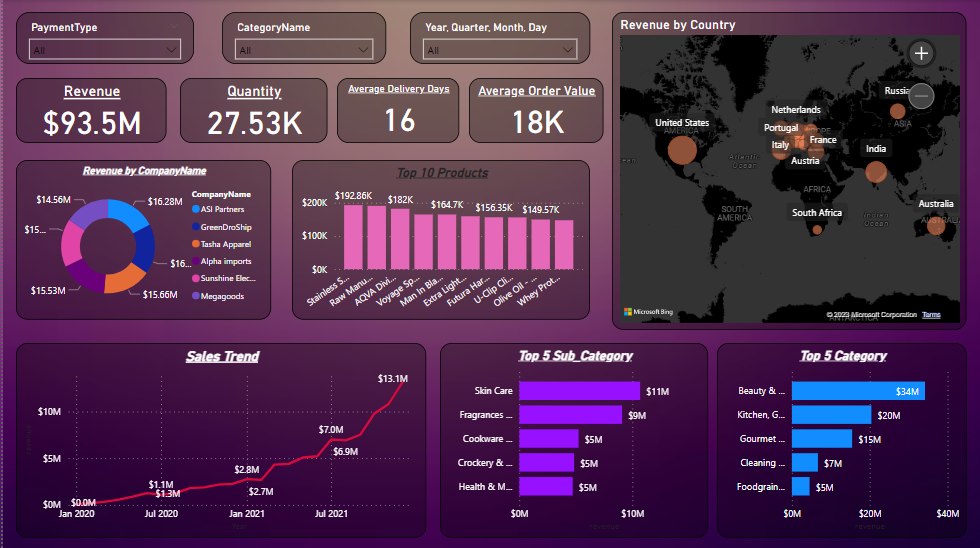

This screenshot's page, from the dashboard's own definition file:
{"tool":"powerbi","page":{"name":"Page 1","canvas":[1280,720],"ordinal":0},"visuals":[{"type":"card","title":"Revenue","fields":{"Values":["Orders.revenue"]},"box":[17.3,102.2,197.3,85],"z":0},{"type":"card","title":"Quantity","fields":{"Values":["OrderDetails.Quantity"]},"box":[231.8,102.2,193,85],"z":1000},{"type":"card","title":"Average Delivery Days","fields":{"Values":["Orders.Delivery Days"]},"box":[437.8,102.2,159.8,85],"z":2000},{"type":"card","title":"Average Order Value","fields":{"Values":["Orders.Total_order_amount"]},"box":[610.6,102.2,175.7,85],"z":3000},{"type":"map","title":"Revenue by Country","fields":{"Category":["Customers.Country"],"Size":["Orders.revenue"]},"box":[797.8,15.8,463.7,416.2],"z":4000},{"type":"slicer","fields":{"Values":["Payments.PaymentType"]},"box":[17.3,15.8,233.3,67.7],"z":5000},{"type":"slicer","fields":{"Values":["Category.CategoryName"]},"box":[286.6,15.8,214.6,67.7],"z":6000},{"type":"slicer","fields":{"Values":["Orders.OrderDate.Variation.Date Hierarchy.Year","Orders.OrderDate.Variation.Date Hierarchy.Quarter","Orders.OrderDate.Variation.Date Hierarchy.Month","Orders.OrderDate.Variation.Date Hierarchy.Day"]},"box":[532.8,15.8,236.2,67.7],"z":7000},{"type":"barChart","title":"Top 5 Category","fields":{"Category":["Category.CategoryName"],"Y":["Orders.revenue"]},"box":[934.6,449.3,326.9,254.9],"z":8000},{"type":"barChart","title":"Top 5 Sub_Category","fields":{"Y":["Orders.revenue"],"Category":["Products.Sub_Category"]},"box":[571.7,449.3,351.4,254.9],"z":9000},{"type":"lineChart","title":"Sales Trend","fields":{"Category":["Orders.OrderDate.Variation.Date Hierarchy.Year","Orders.OrderDate.Variation.Date Hierarchy.Quarter","Orders.OrderDate.Variation.Date Hierarchy.Month"],"Y":["Orders.revenue"]},"box":[17.3,449.3,537.1,254.9],"z":10000},{"type":"donutChart","title":"Revenue by CompanyName","fields":{"Y":["Orders.revenue"],"Category":["Suppliers.CompanyName"]},"box":[17.3,208.8,334.1,208.8],"z":11000},{"type":"clusteredColumnChart","title":"Top 10 Products","fields":{"Category":["Products.Product"],"Y":["Orders.revenue"]},"box":[378.7,208.8,390.2,208.8],"z":12000}]}

Visuals, with their boxes in screenshot pixels (x1, y1, x2, y2), scaled from the page's 1280x720 canvas onto the 980x548 screenshot:
"Revenue" card: x1=13 y1=78 x2=164 y2=142
"Quantity" card: x1=177 y1=78 x2=325 y2=142
"Average Delivery Days" card: x1=335 y1=78 x2=458 y2=142
"Average Order Value" card: x1=467 y1=78 x2=602 y2=142
"Revenue by Country" map: x1=611 y1=12 x2=966 y2=329
slicer - Payments.PaymentType: x1=13 y1=12 x2=192 y2=64
slicer - Category.CategoryName: x1=219 y1=12 x2=384 y2=64
slicer - Orders.OrderDate.Variation.Date Hierarchy.Year x Orders.OrderDate.Variation.Date Hierarchy.Quarter: x1=408 y1=12 x2=589 y2=64
"Top 5 Category" barChart: x1=716 y1=342 x2=966 y2=536
"Top 5 Sub_Category" barChart: x1=438 y1=342 x2=707 y2=536
"Sales Trend" lineChart: x1=13 y1=342 x2=424 y2=536
"Revenue by CompanyName" donutChart: x1=13 y1=159 x2=269 y2=318
"Top 10 Products" clusteredColumnChart: x1=290 y1=159 x2=589 y2=318
